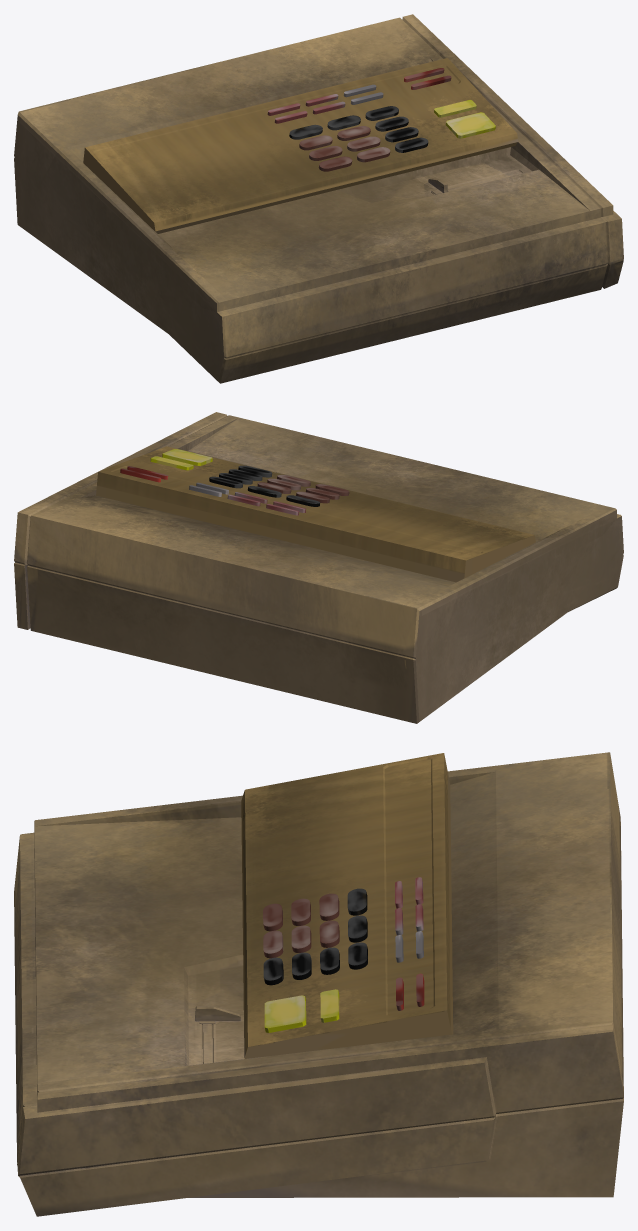
The model's file is ახალი საბეჭდი მანქანა.fbx.
3 renders of one model, top to bottom at view 1: azimuth 30°, elevation 25°; view 2: azimuth 150°, elevation 25°; view 3: azimuth 270°, elevation 25°, orthographic. The views are drawn at different scales.
Parts seen in each view (by area): view 1: Cube.009, Cube.010, Cube.012, Cube.014, Cube.013; view 2: Cube.009, Cube.010, Cube.012, Cube.014, Cube.013; view 3: Cube.009, Cube.010, Cube.012, Cube.013, Cube.014.
Part boxes in pixels (x1,y1,x2,y2): Cube.009: (14, 14, 623, 383); Cube.010: (83, 58, 518, 233); Cube.012: (289, 106, 428, 171); Cube.014: (267, 68, 451, 123); Cube.013: (434, 100, 495, 138); Cube.009: (14, 412, 623, 723); Cube.010: (96, 446, 535, 582); Cube.012: (209, 465, 349, 506); Cube.014: (120, 466, 305, 515); Cube.013: (150, 449, 212, 470); Cube.009: (14, 752, 623, 1216); Cube.010: (241, 753, 453, 1058); Cube.012: (263, 888, 367, 985); Cube.013: (264, 989, 339, 1032); Cube.014: (395, 877, 424, 1010).
Size of the model in its own units: 0.6033 by 0.1863 by 0.5457.
1 material, 1 textured.
